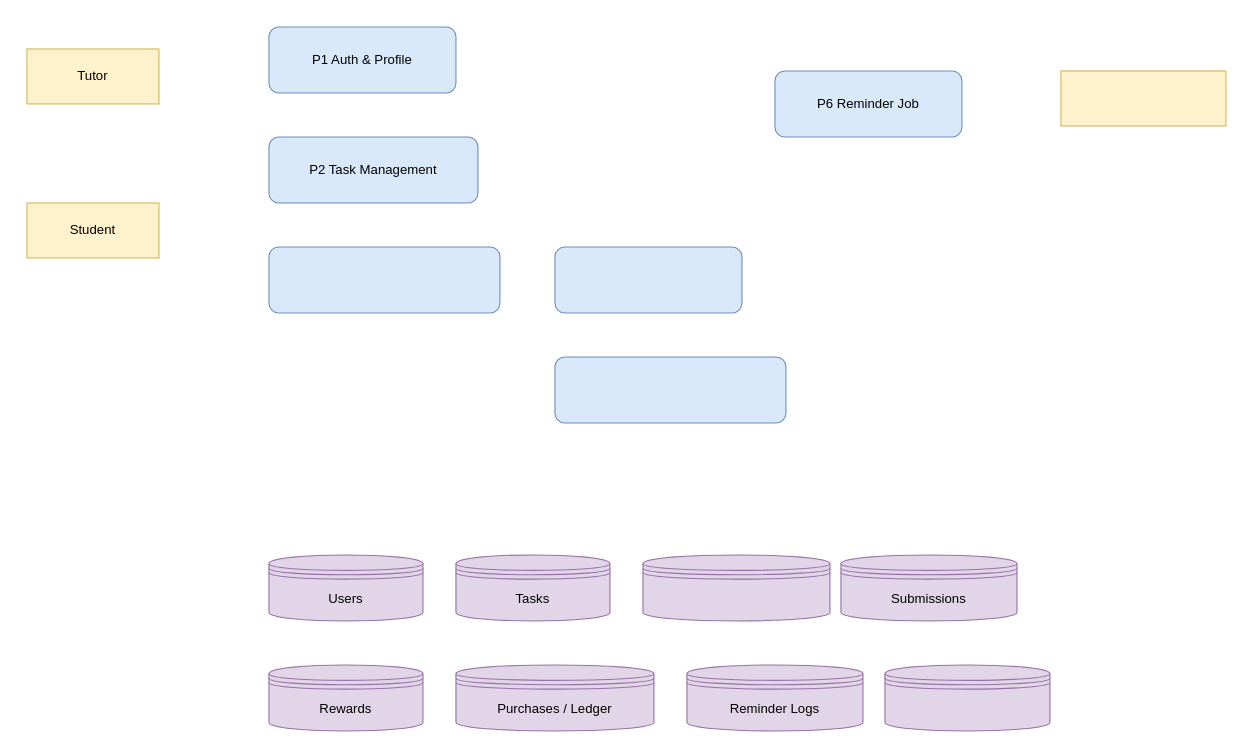
This 1245x750 diagram has some shape labels left out. Each missing label, with the box of its shape:
Email Service: (1060, 70, 1226, 126)
P3 Submission Management: (268, 246, 500, 313)
P4 Award Points: (554, 246, 742, 313)
P5 Rewards & Purchases: (554, 356, 786, 423)
PDF Storage: (884, 664, 1050, 731)
Task Assignments: (642, 554, 830, 621)
